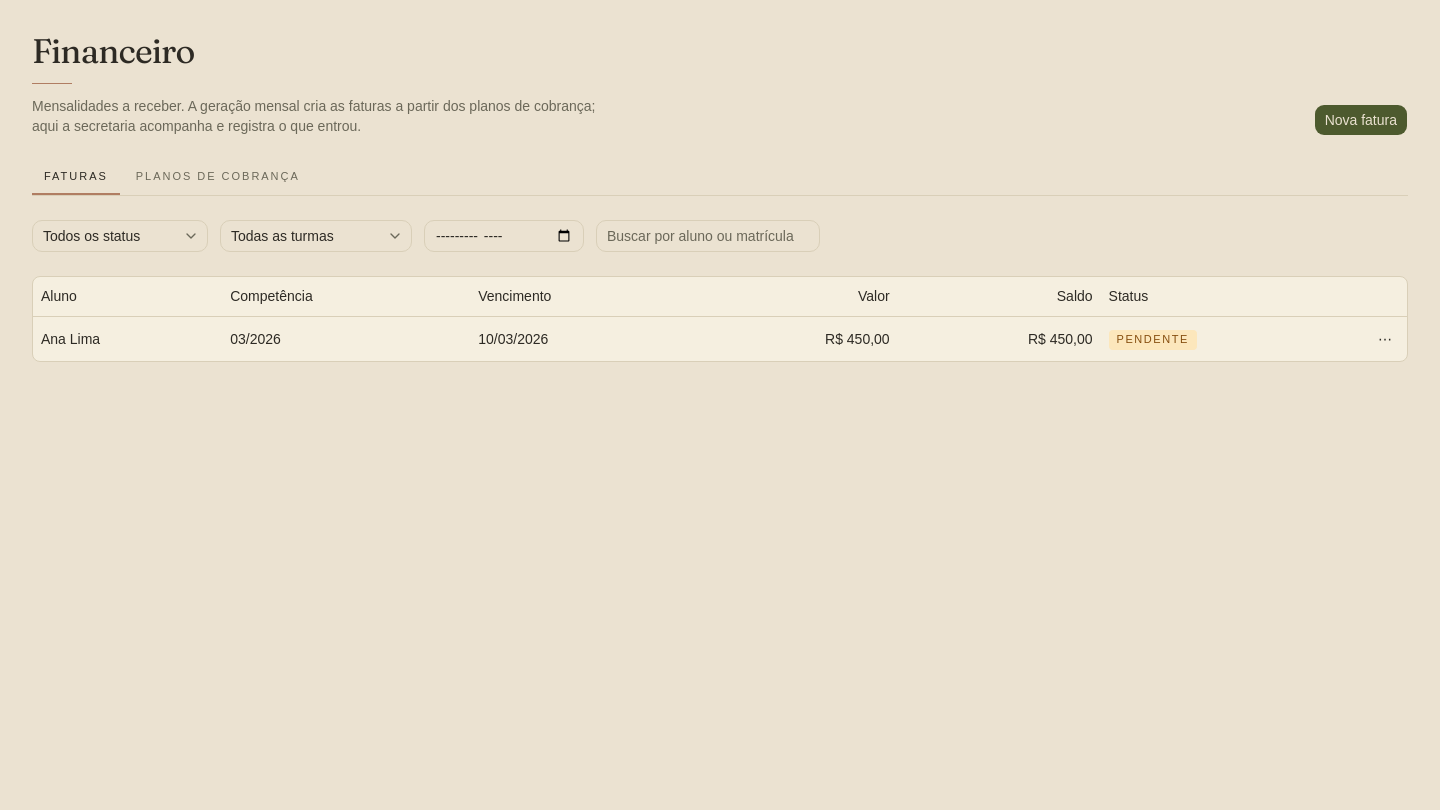
Test: FaturasPage — emitir cobrança › mostra a mensagem do backend quando a emissão é recusada
Click the button named "Ações da fatura": {"x": 1385, "y": 339} [1371,325,1399,353]
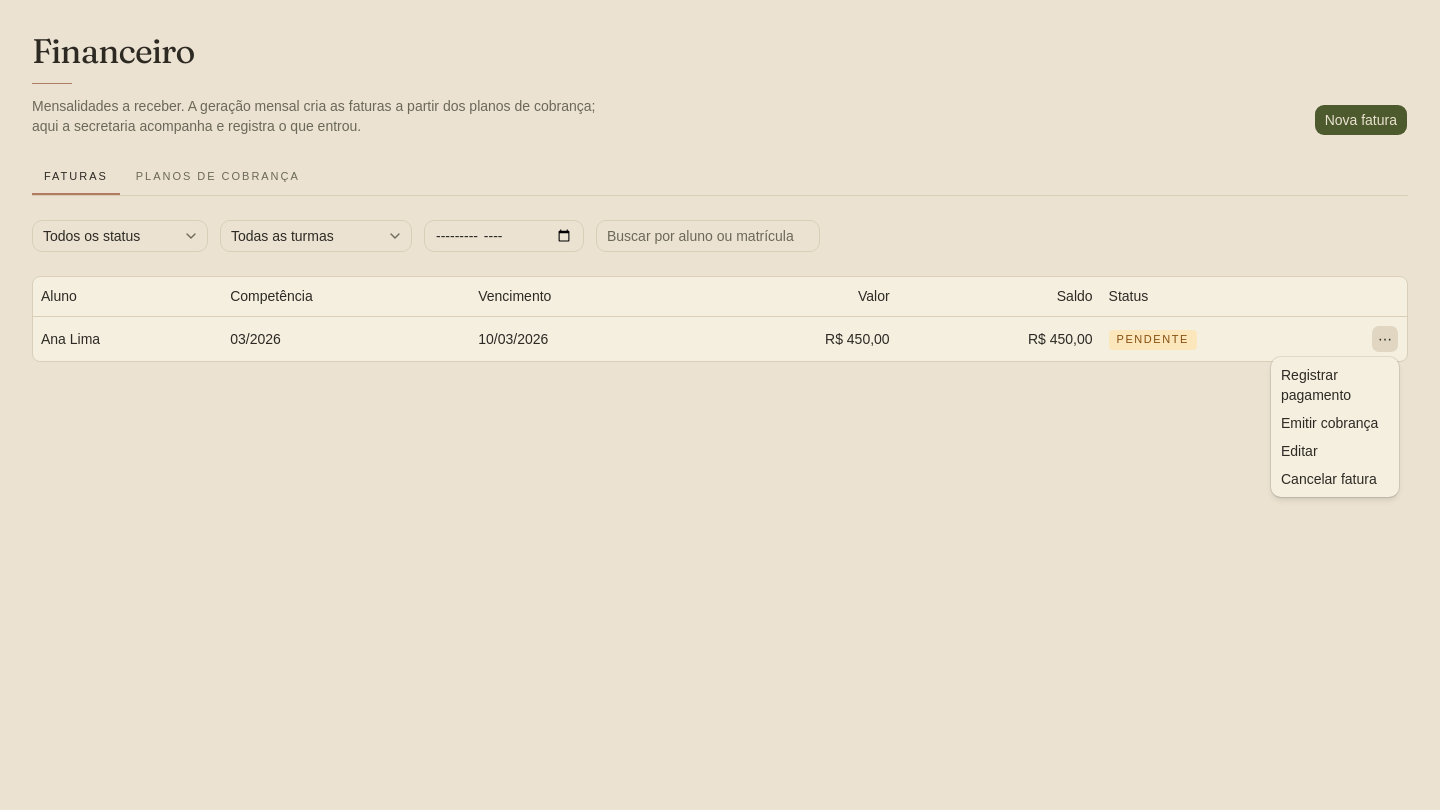
Click the menu item "Emitir cobrança": {"x": 1330, "y": 423} [1281,415,1378,431]
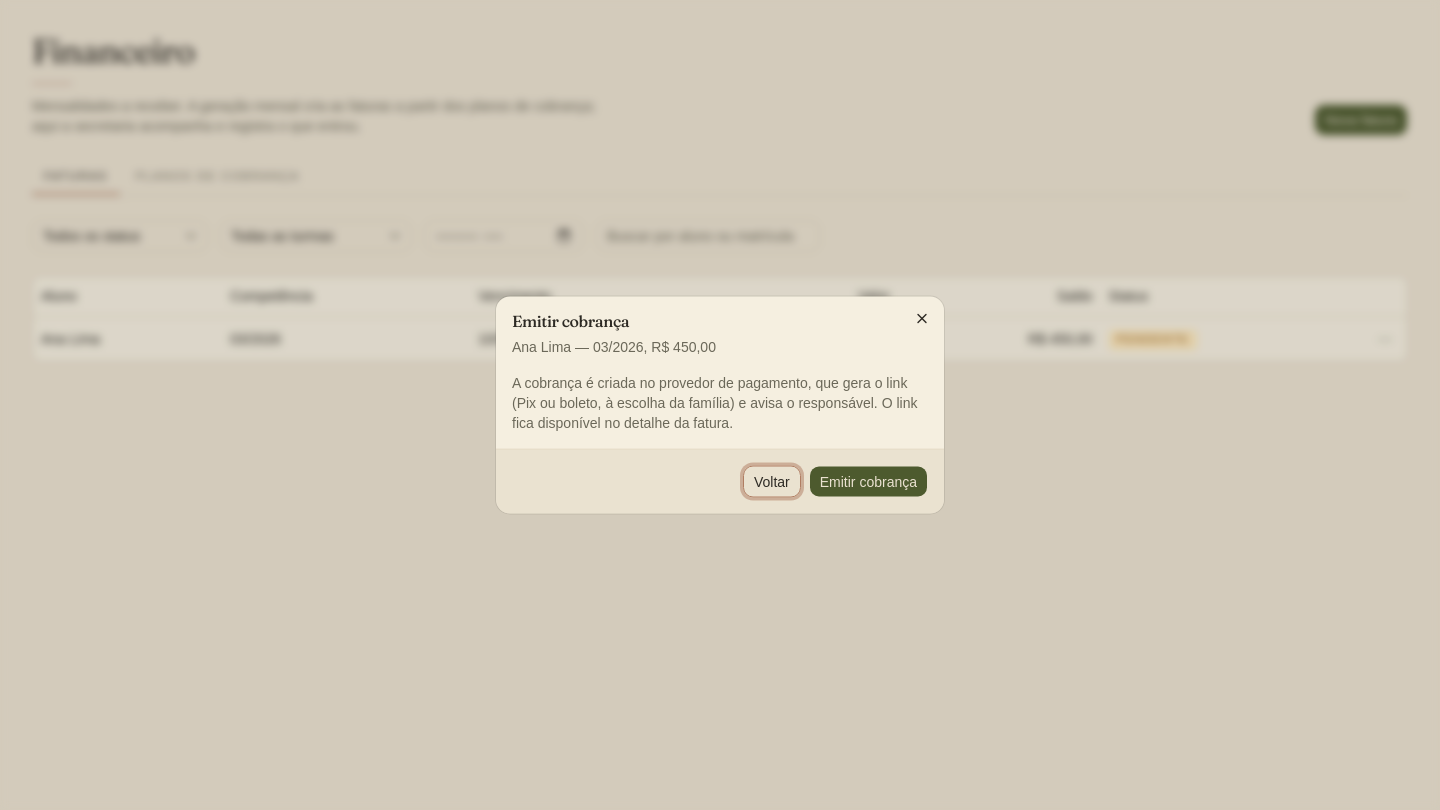
Click the button "Emitir cobrança": {"x": 868, "y": 482} [809,466,928,498]
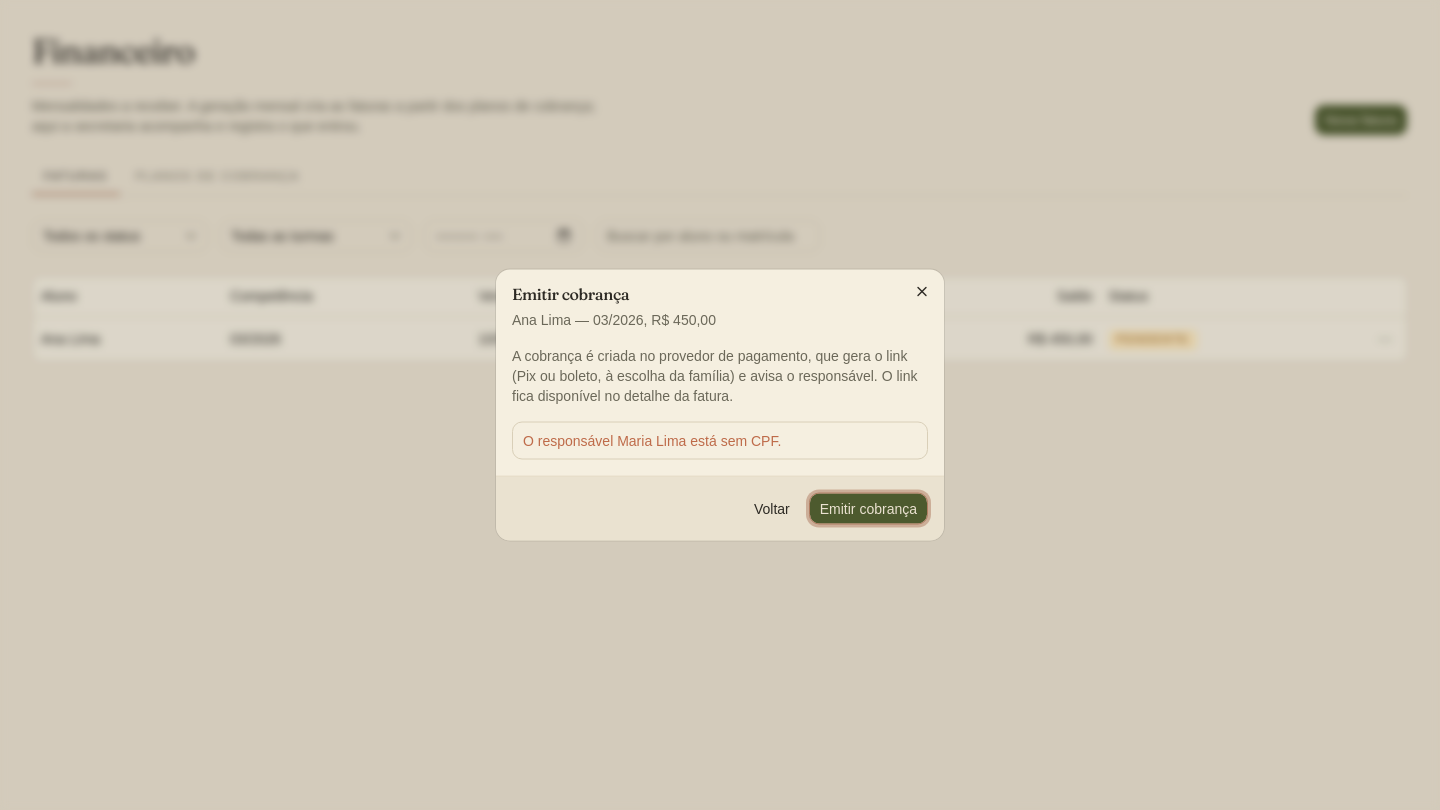
Check: the text "O responsável Maria Lima está sem CPF." is shown, box [523,432,781,448]
